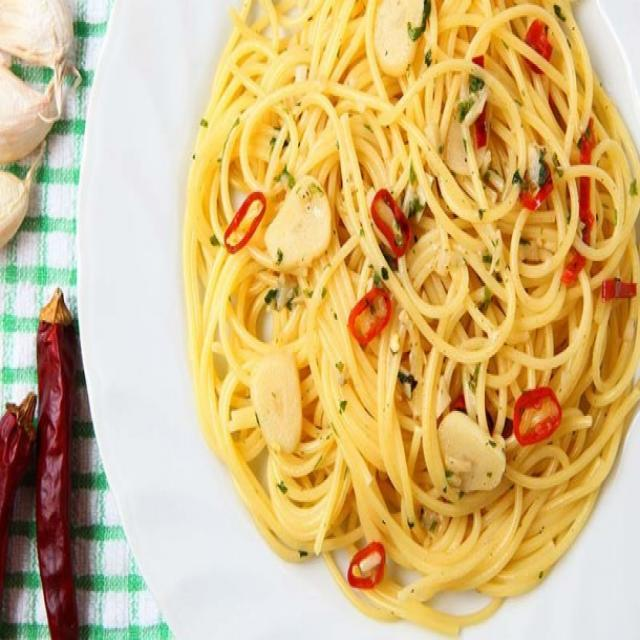Oil pasta: (180, 12, 634, 603)
